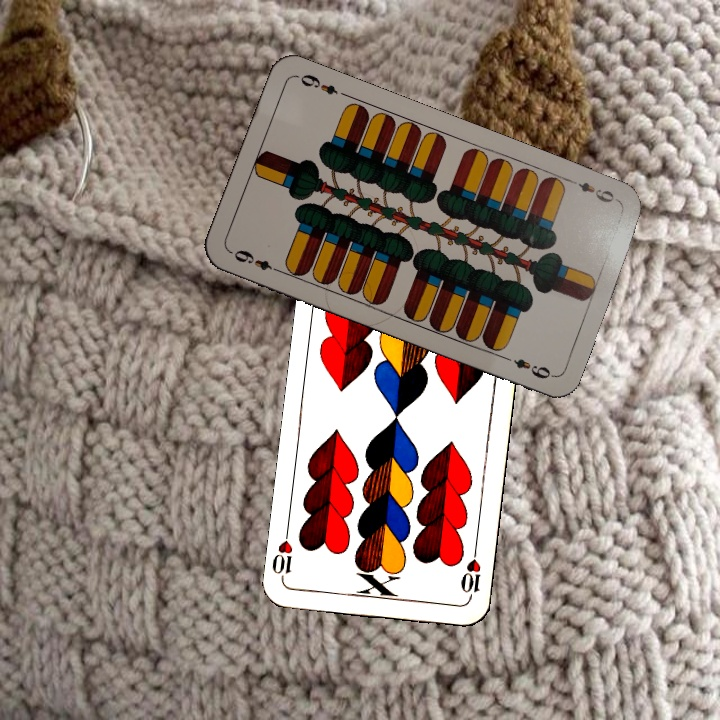E9: (227, 245, 284, 276), (565, 175, 621, 206)
H10: (456, 543, 484, 602)
